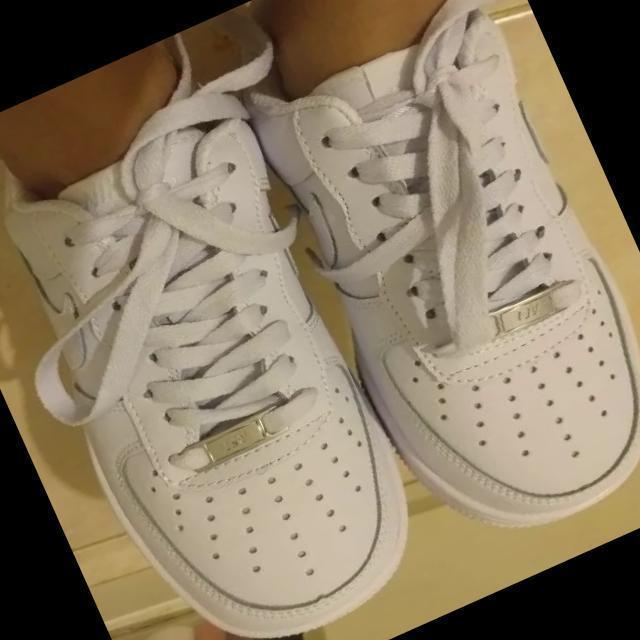nike fake air force: (0, 25, 456, 640), (205, 0, 640, 578)
